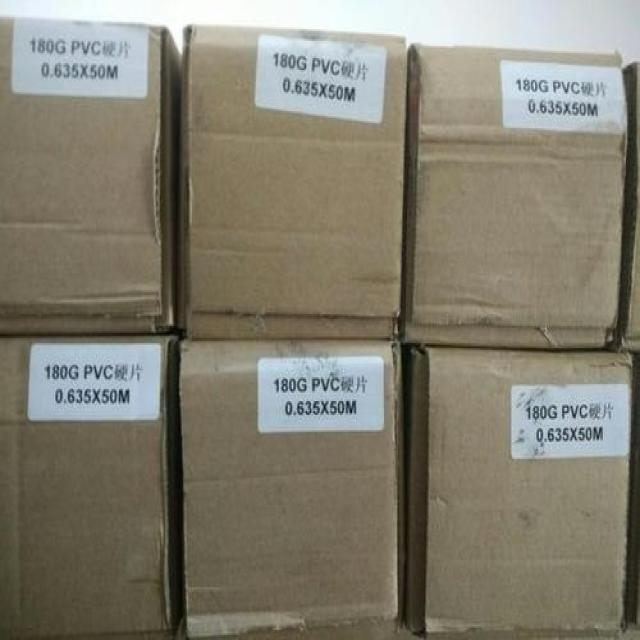box: (178, 24, 406, 340), (406, 345, 640, 640), (177, 340, 404, 640), (403, 44, 627, 348), (0, 15, 182, 338), (0, 335, 170, 640), (607, 58, 640, 352)
